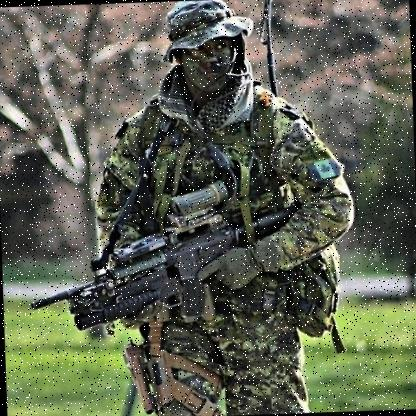rifle: (39, 206, 283, 338)
